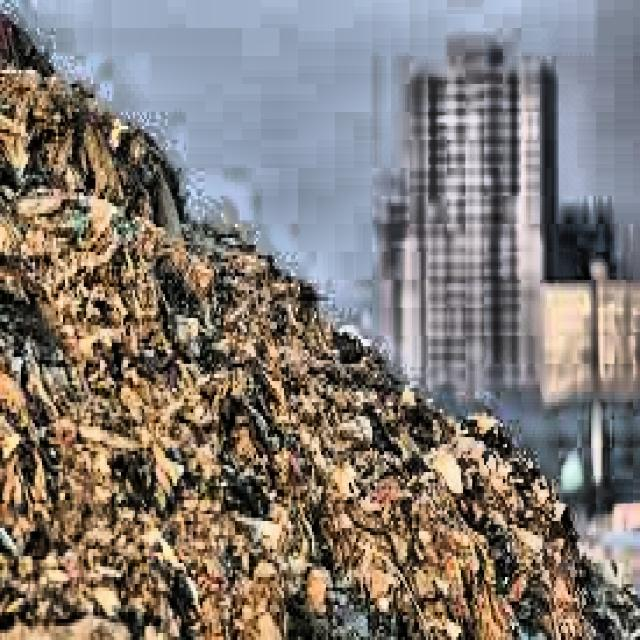garbage: (0, 409, 582, 637), (75, 185, 402, 427), (0, 116, 121, 468)
